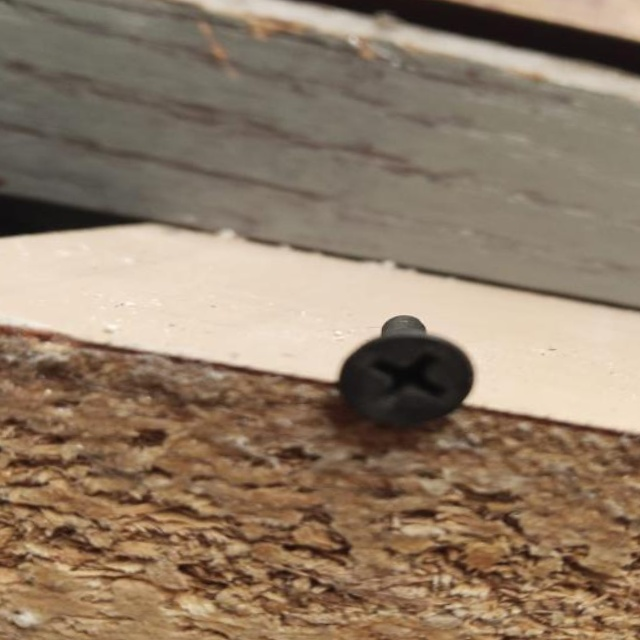phillips: (337, 333, 476, 428)
